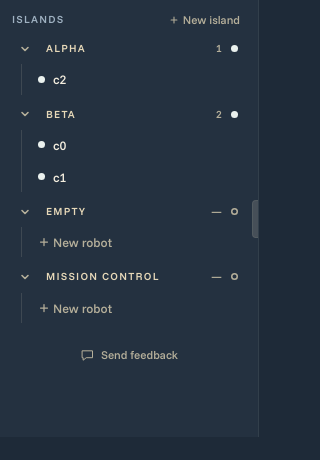
it: Rename takes the keys from any terminal into a name field on the robot row, and Enter saves the new name
Right-click the element with test id "sb-robot-c0": point(52, 145) [38, 137, 66, 153]
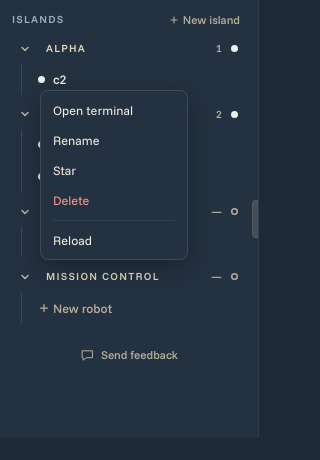
Click the menu item "Rename": point(76, 140) [53, 132, 100, 148]
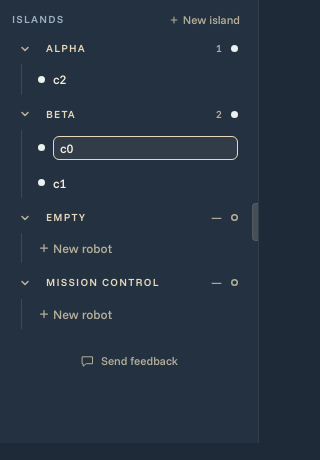
Replace the text in the field with test id "robot-name-input" with "  auth fix ": point(146, 148) [53, 136, 238, 160]
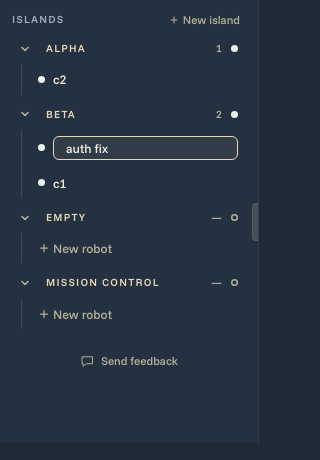
Press Enter in the field with test id "robot-name-input", box [53, 136, 238, 160]
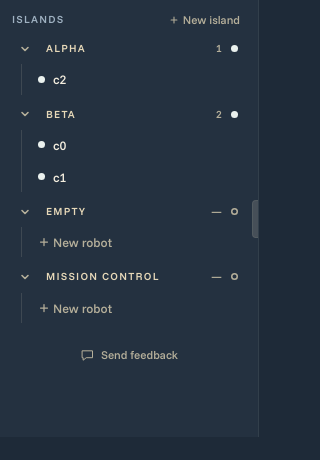
Check: the field with test id "robot-name-input" is gone
